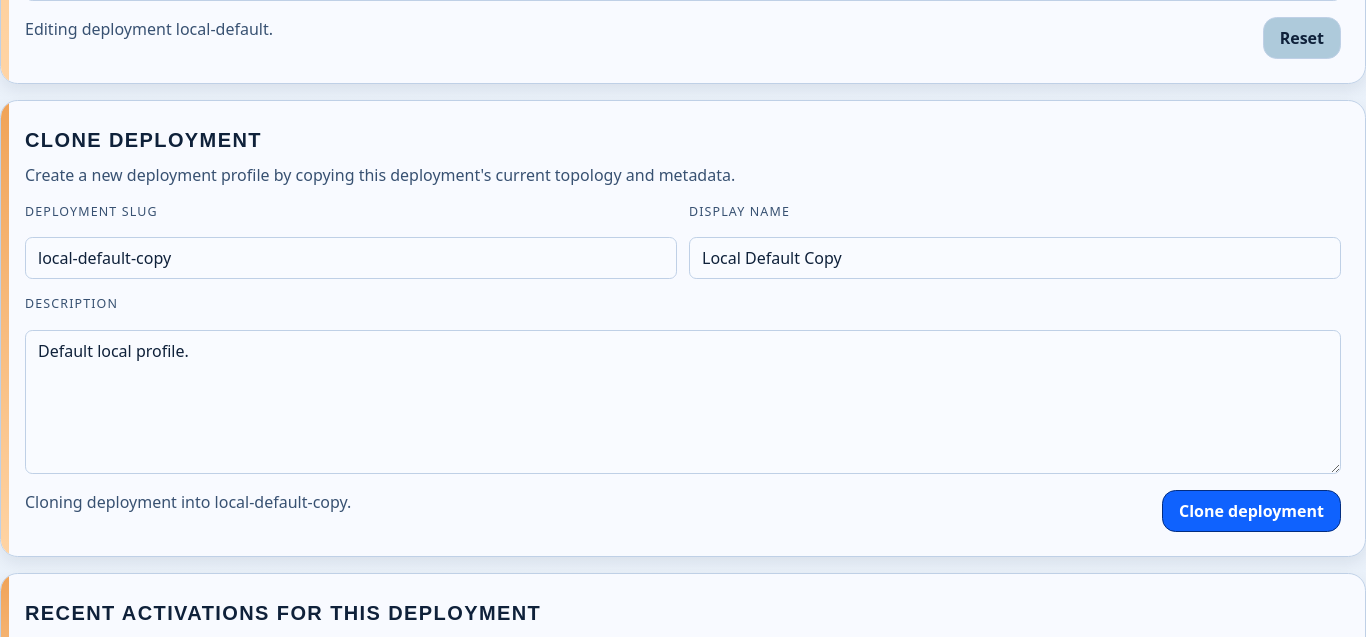
Test: PlatformDeploymentDetailPage › clones a deployment profile from the detail page
(page scrolled)
Replace the text in the field labelled "Deployment slug" with "staging-profile-copy": {"x": 351, "y": 258} 25,237 -> 677,279
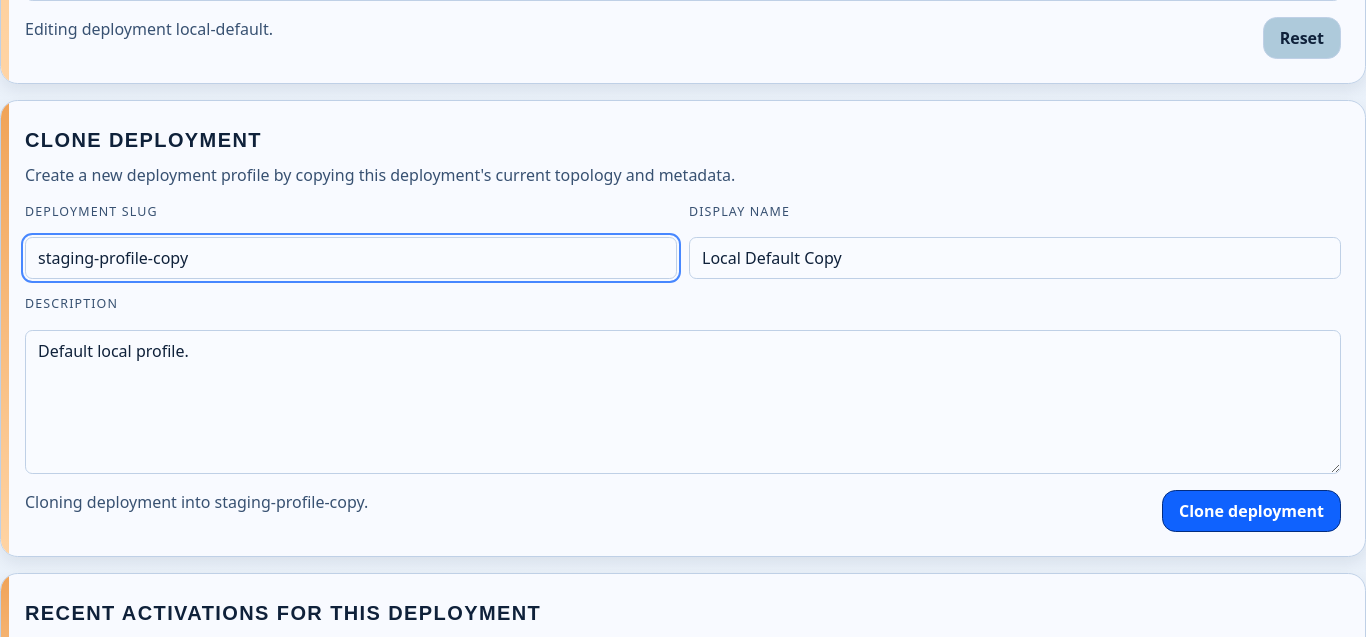
Replace the text in the field labelled "Display name" with "Staging Profile Copy": {"x": 1015, "y": 258} 689,237 -> 1341,279
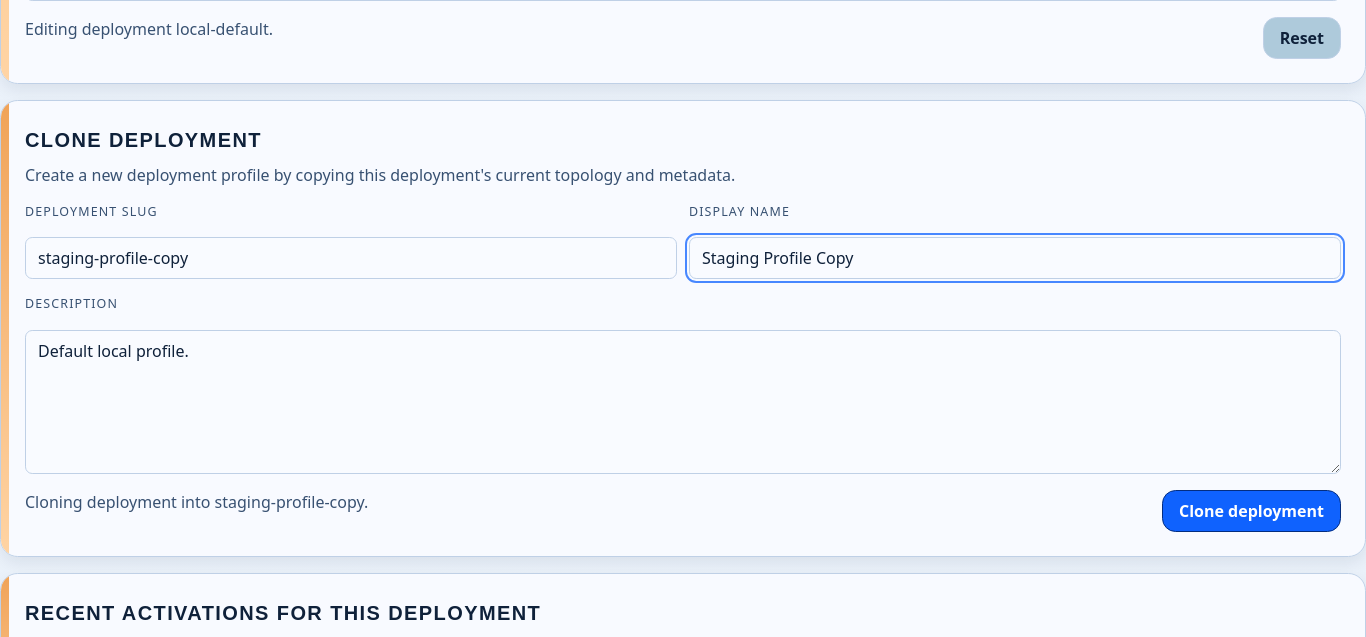
Click the button "Clone deployment": {"x": 1252, "y": 511} 1162,490 -> 1341,532
(page scrolled)
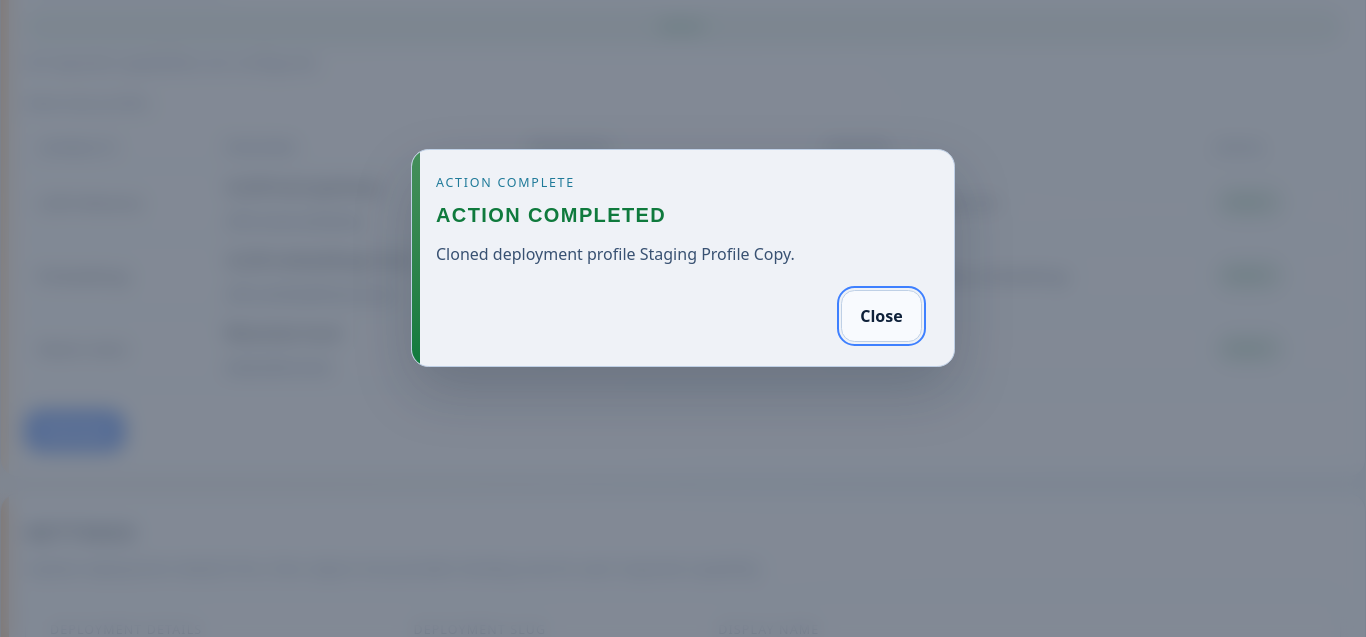
Expected: the dialog is shown, 411,148 -> 955,367
Expected: the text "Cloned deployment profile Staging Profile Copy." is shown, 436,243 -> 795,265
